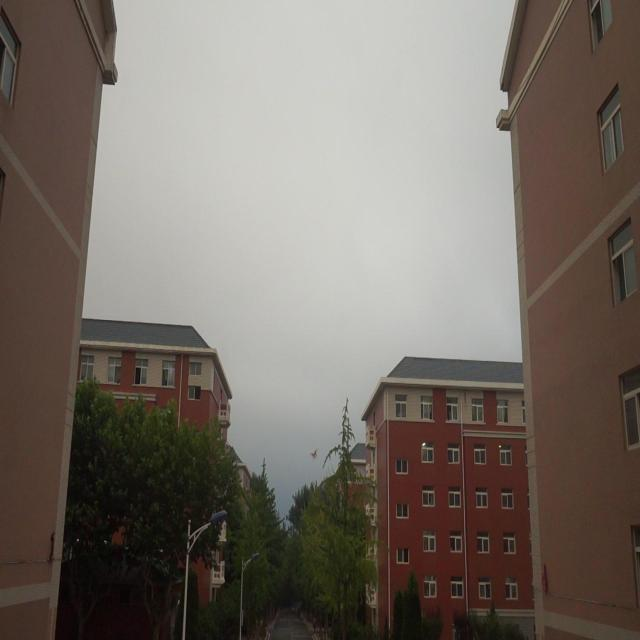drone: (310, 445, 318, 462)
